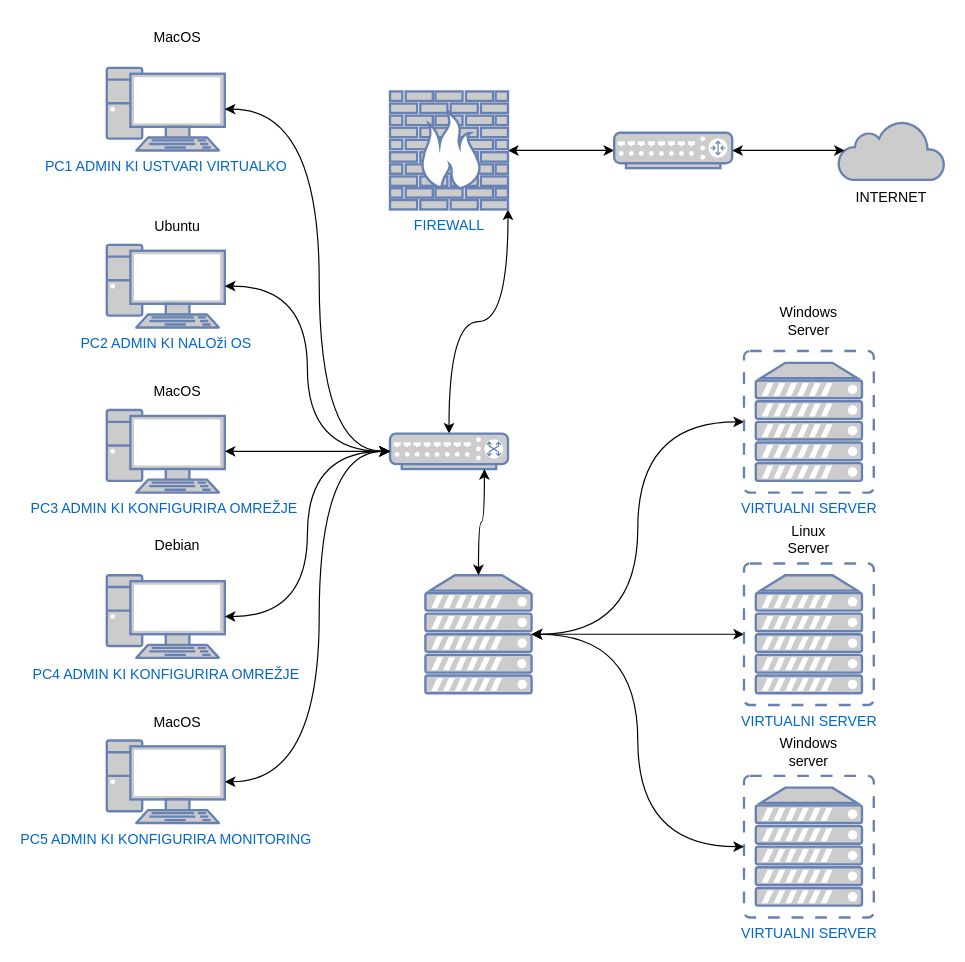
The diagram is 965 pixels wide and 962 high, and some of its shapes have lost their labels. Each missing label, with the box of its shape:
EDGE ROUTER: (612, 131, 733, 169)
SWITCH: (388, 432, 509, 470)
VMWARE ESXI SERVER: (424, 573, 532, 694)
